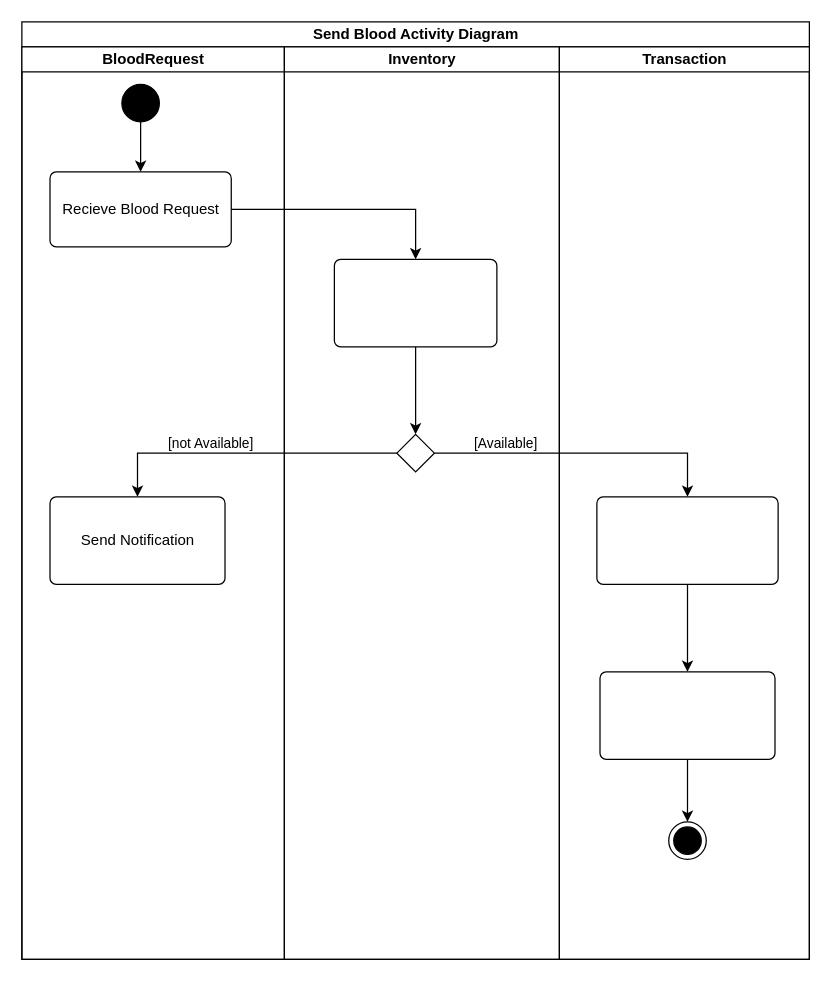
The diagram is 831 pixels wide and 981 high, and some of its shapes have lost their labels. The shapes that lost their labels are listed below. From the top down, each one's centre as x and y in pixels, then its label:
At point (415, 302): "Get Available Blood Types".
At point (687, 540): "Initiate Transaction".
At point (687, 715): "Send Request Blood Amount".
